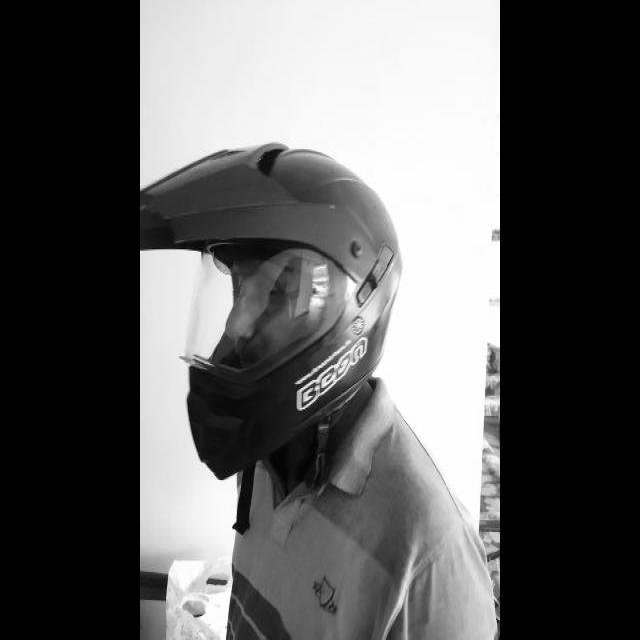5_casco: (140, 145, 402, 482)
